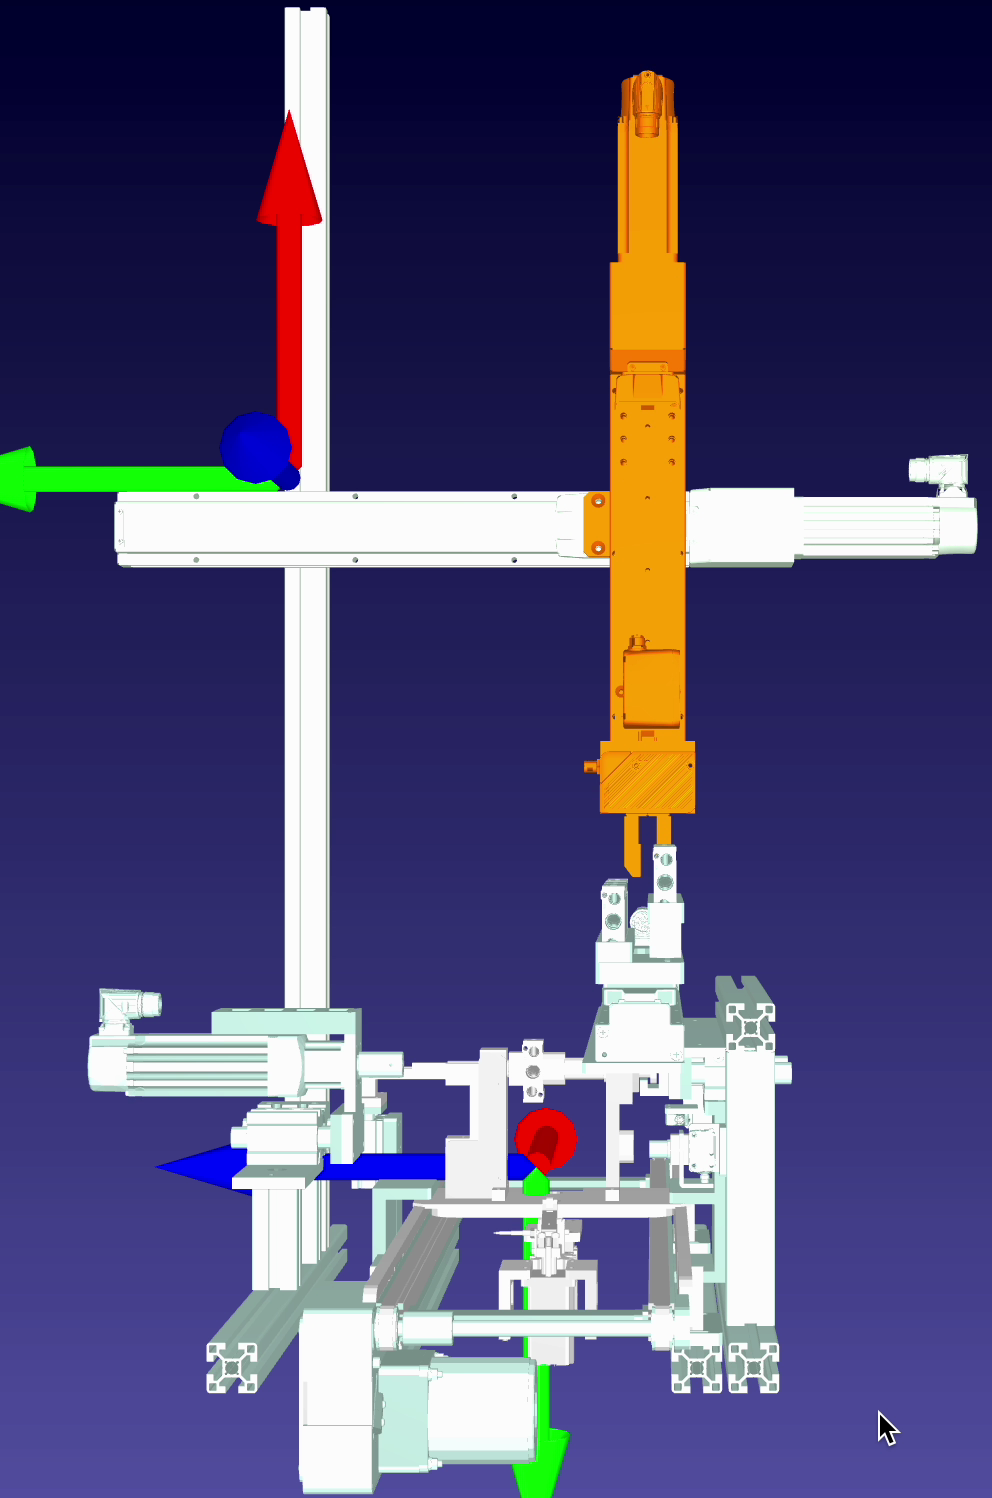Gripper: (591, 742, 695, 843)
